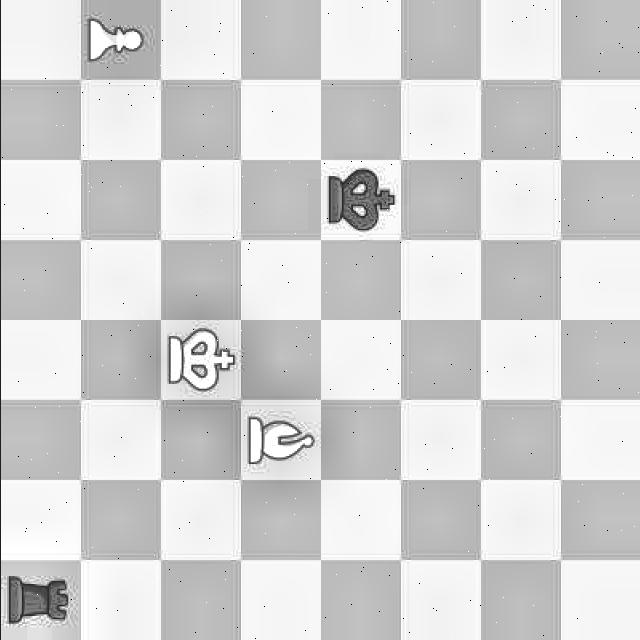black king: (322, 165, 404, 237)
black rook: (0, 568, 76, 636)
white bishop: (246, 414, 318, 472)
white king: (167, 326, 235, 394)
white pawn: (84, 16, 144, 62)
